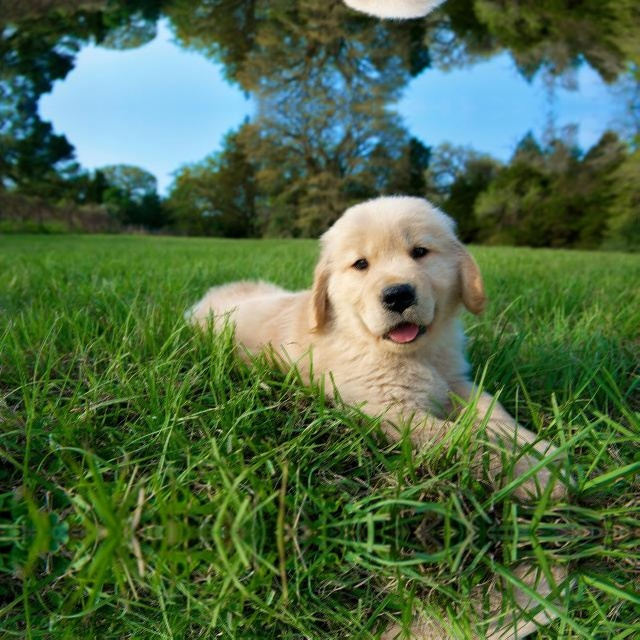dog: (174, 174, 581, 488), (173, 578, 580, 640), (173, 0, 580, 39)
